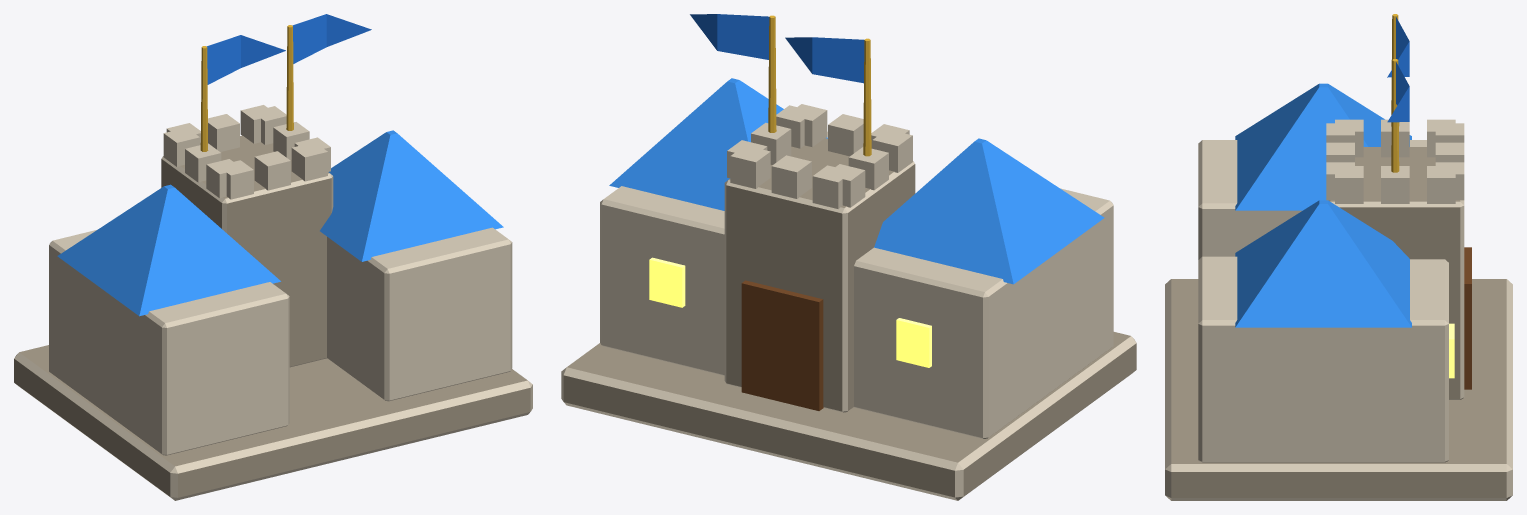
The model's file is castle-barracks.glb.
3 views of the same model, side by side, from view 1: azimuth 30°, elevation 25°; view 2: azimuth 150°, elevation 25°; view 3: azimuth 270°, elevation 25° (orthographic). The views are drawn at different scales.
Visible parts, largest first — view 1: Castle_Barracks; view 2: Castle_Barracks; view 3: Castle_Barracks.
Part boxes in pixels (x1,y1,x2,y2): Castle_Barracks: (14, 14, 532, 500); Castle_Barracks: (561, 14, 1136, 500); Castle_Barracks: (1165, 14, 1512, 500).
Bounding box in the file's own units: 4.43 × 4 × 3.4.
